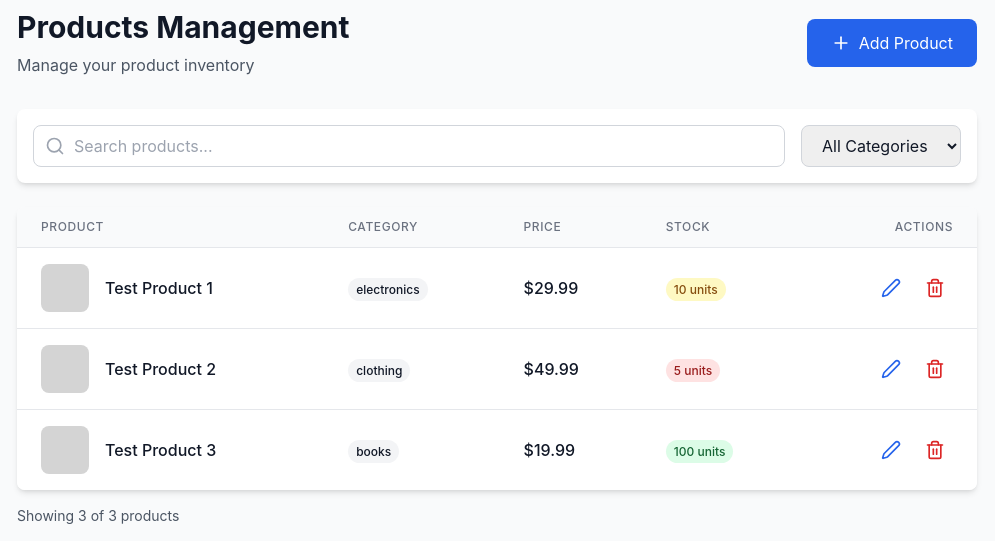
Test: AdminProducts › shows empty state when no products match filters
The image size is (995, 541).
Expected: the text "Test Product 1" is shown, [105, 276, 213, 300]
In the field with placeholder "Search products...": (409, 146) [33, 125, 785, 167], type "nonexistent"
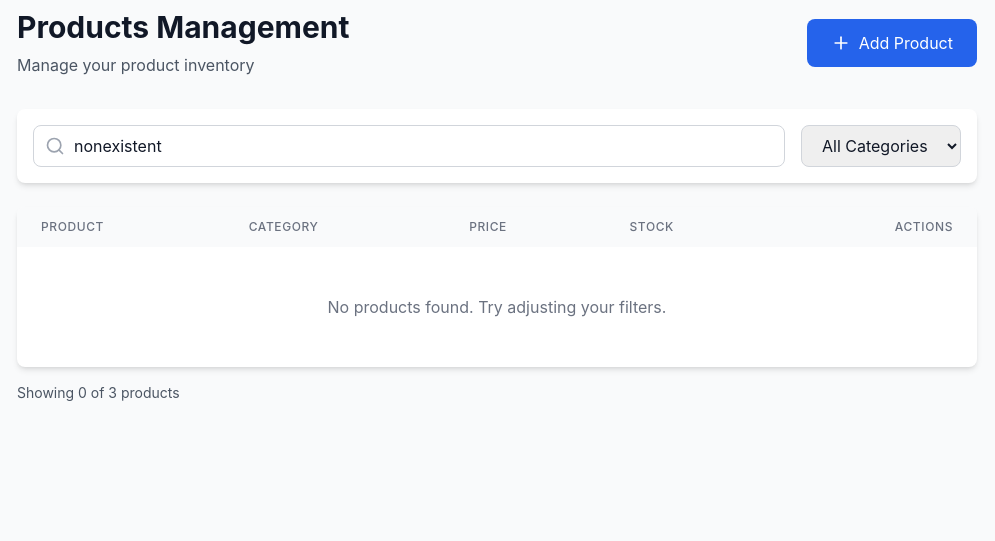
Now the text "No products found. Try adjusting your filters." is shown, box [328, 297, 666, 317]
